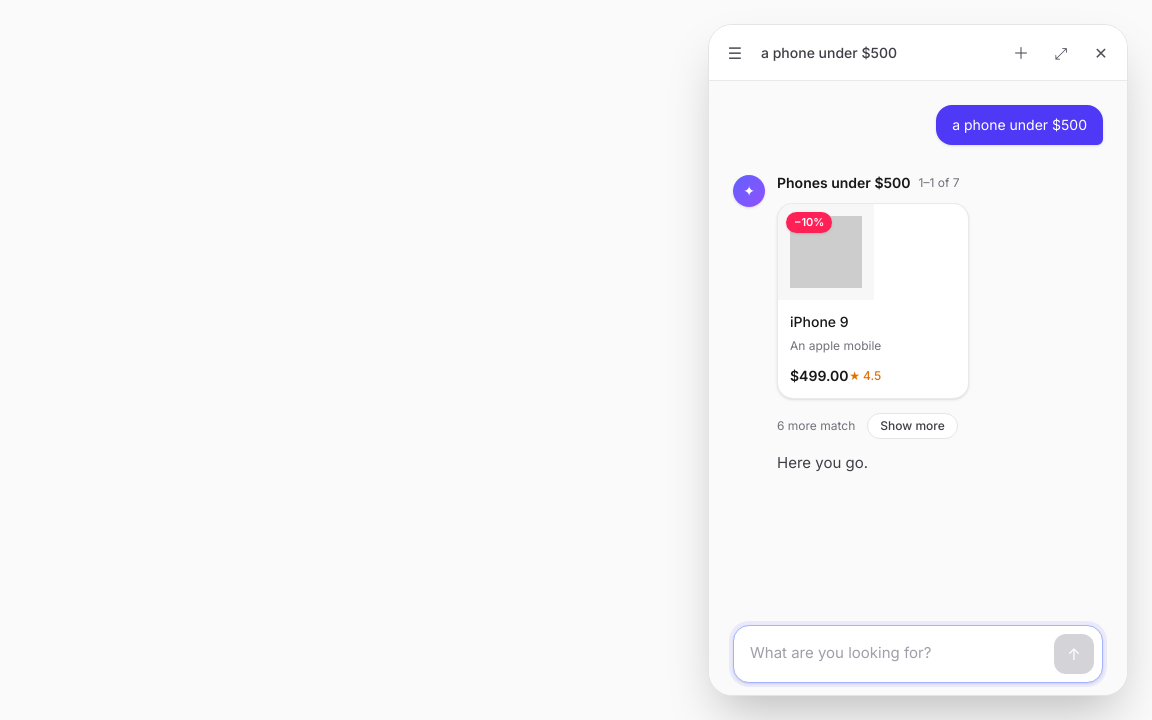
WidgetShell (US6b) › ☰ lists Conversations, picking one switches to it, Esc hides the list (AC6b.2)
Check: the text "Here you go." is shown, box [777,452,868,472]
Click the button named "Show conversations".
click(735, 52)  # box [717,34,753,70]
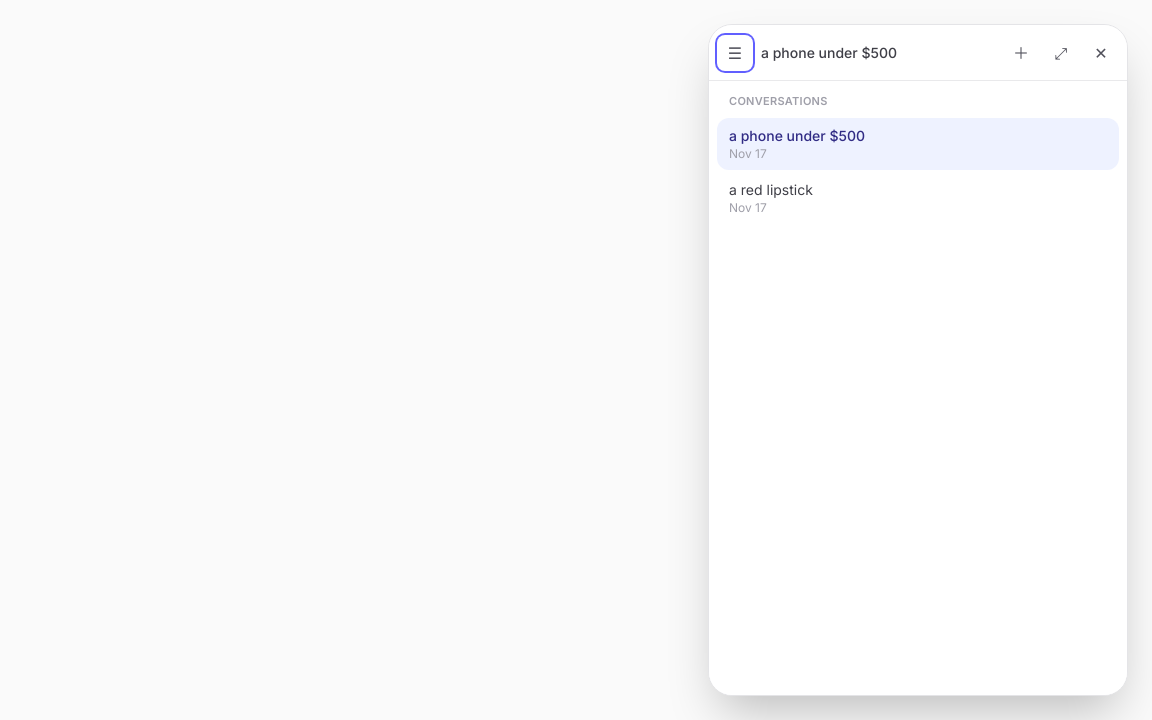
Click the button "a red lipstick Nov 17".
click(771, 189)  # box [717,172,1119,224]
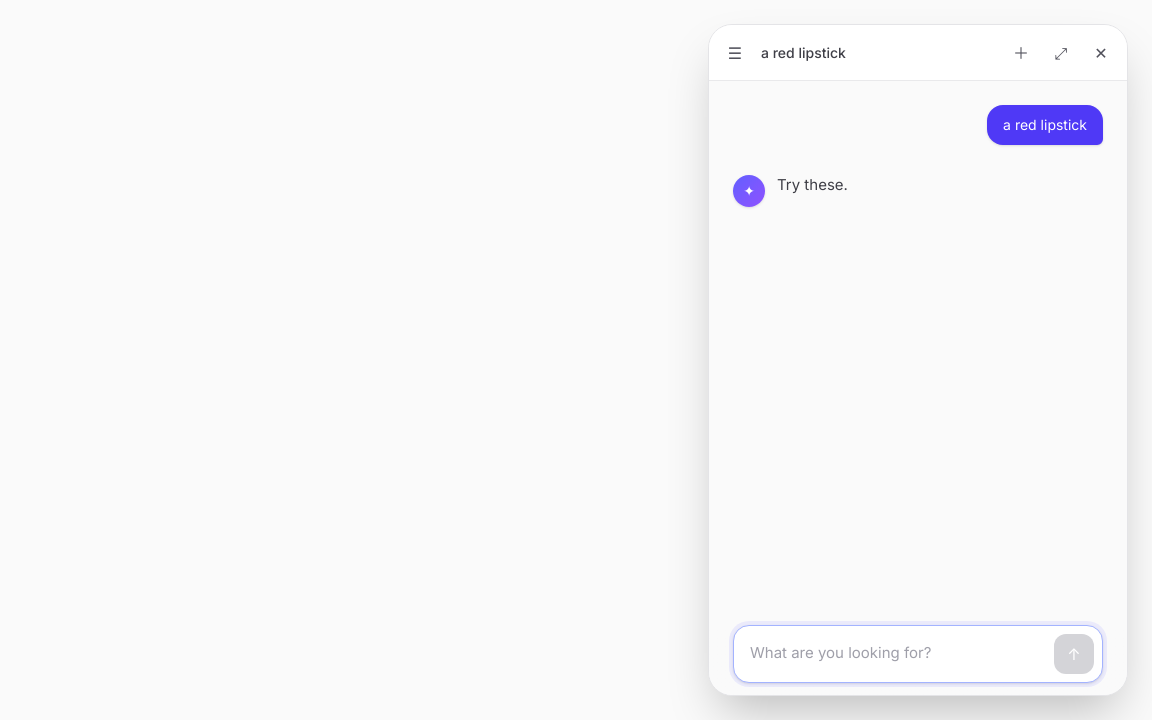
Check: the text "Try these." is shown, box [777,175,848,194]
Check: the text "Conversations" is gone
Click the button named "Show conversations".
click(735, 52)  # box [717,34,753,70]
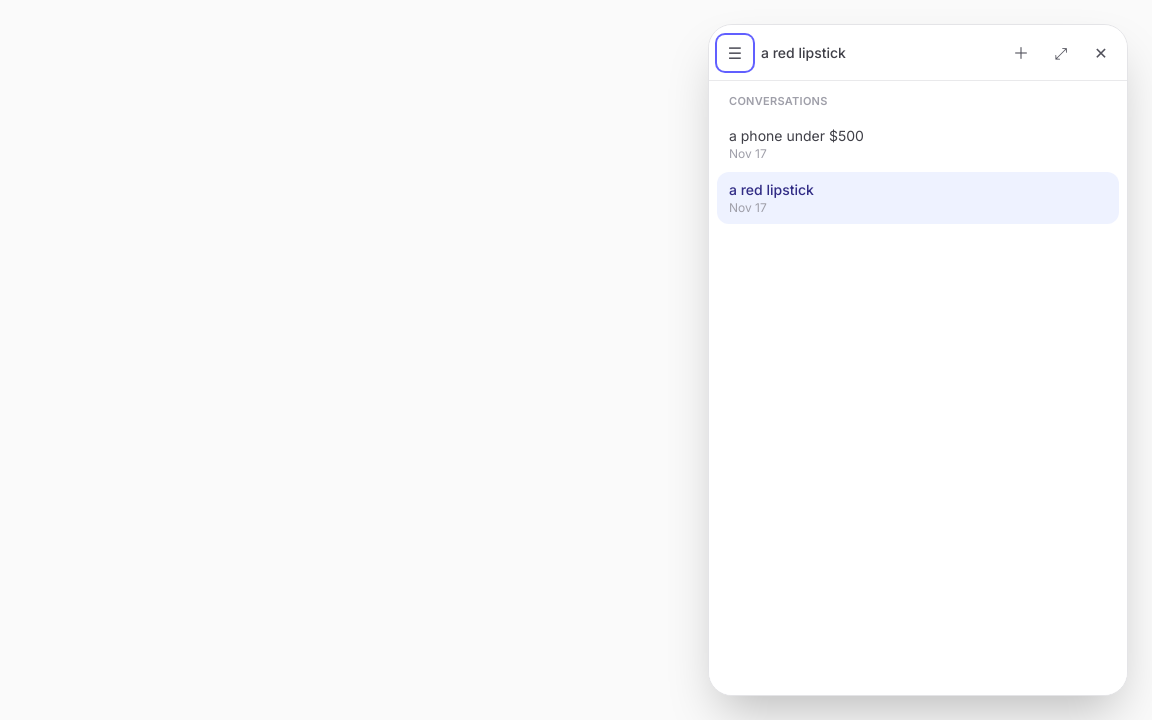
Press Escape
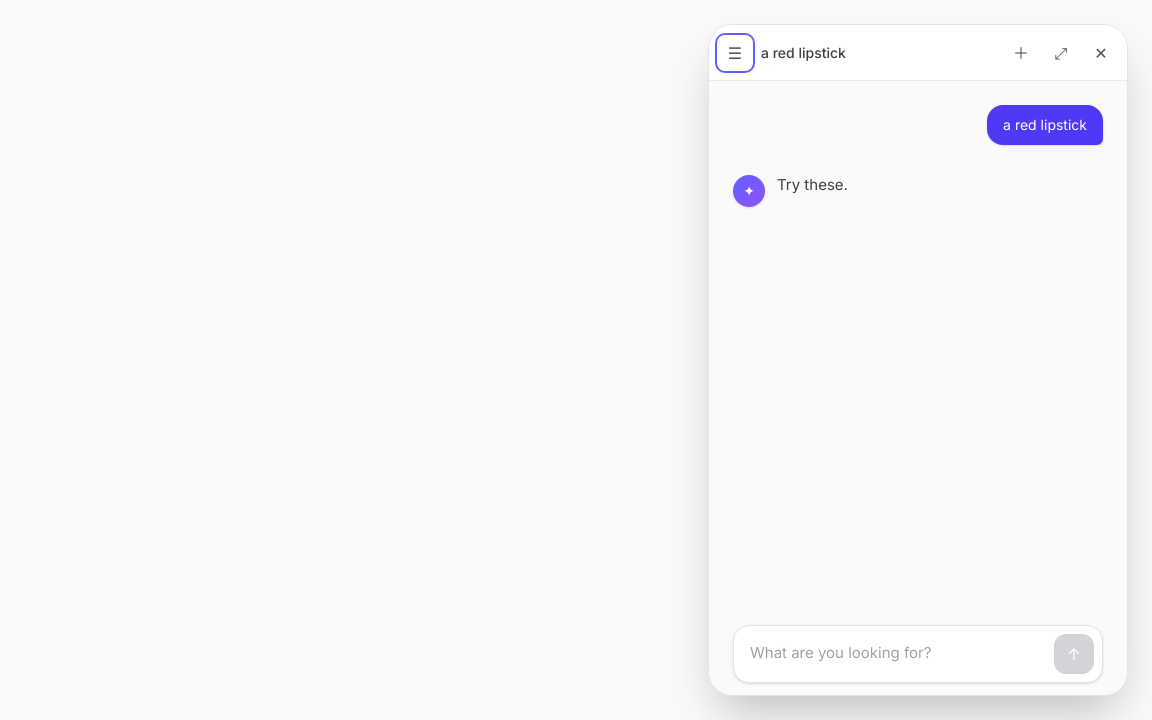
Check: the text "Conversations" is gone
